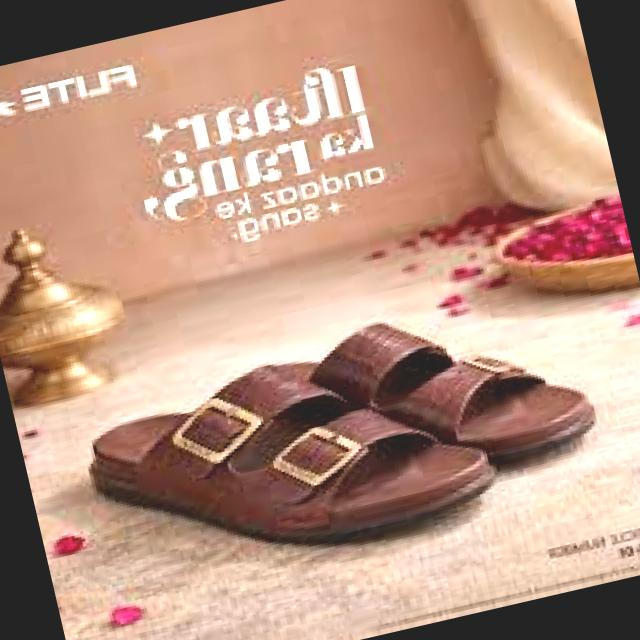foot-wear: (76, 321, 502, 602), (252, 282, 598, 512)
